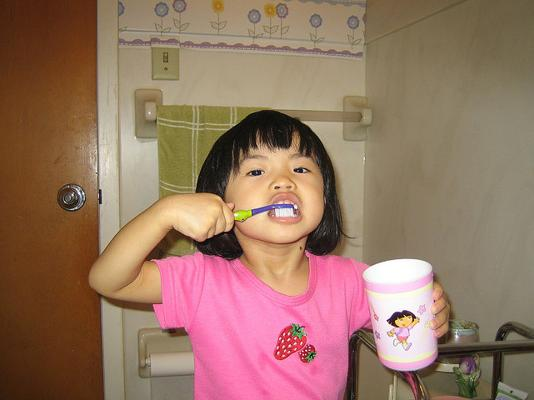person: (88, 110, 451, 400)
